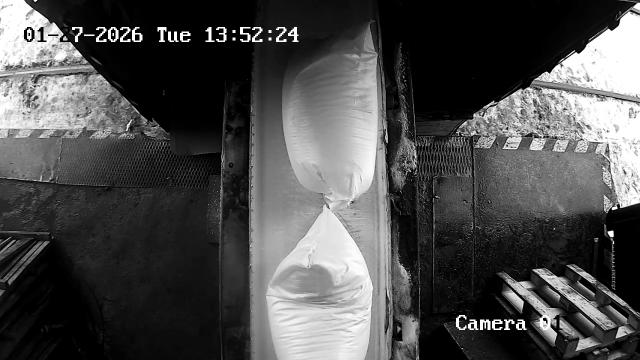bag: (282, 21, 376, 212), (266, 205, 373, 360)
